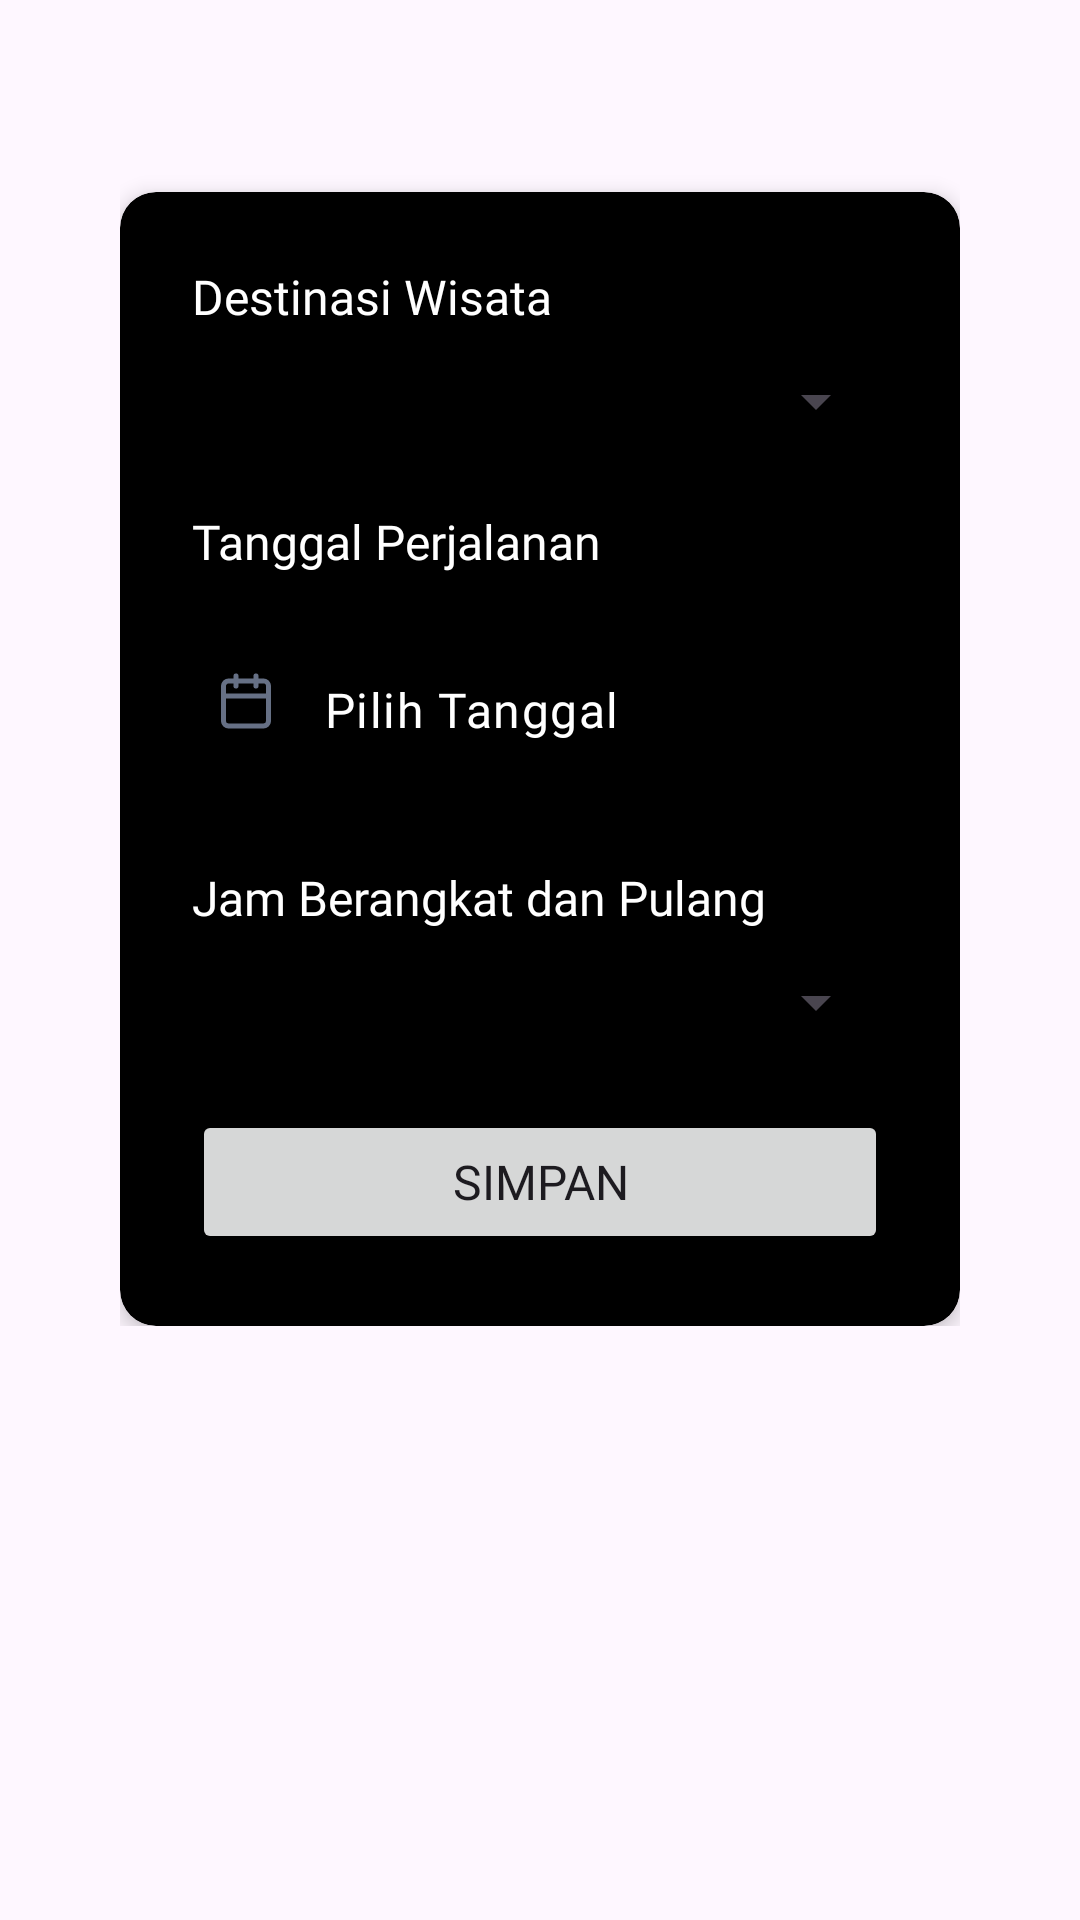

Screen size 1080 x 1920. Icon name, then its center in pixels as [x,y]:
Date Picker: [246,701]
